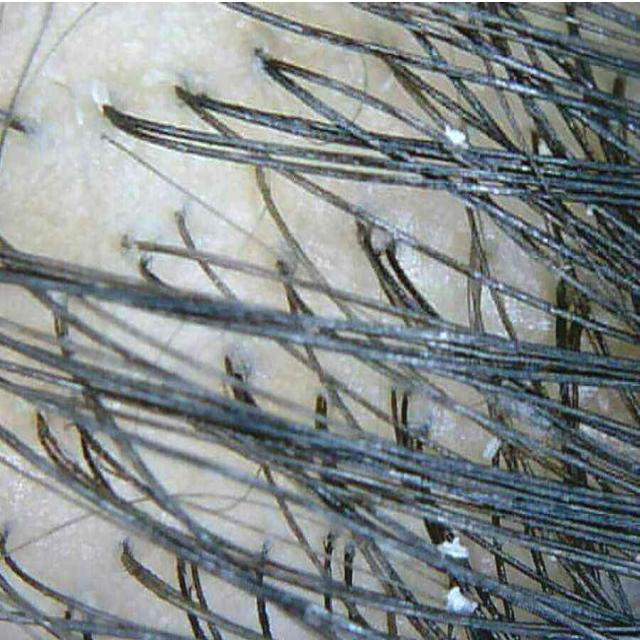d: (446, 586, 483, 618), (433, 534, 469, 558), (91, 80, 111, 109), (445, 125, 469, 148), (482, 437, 501, 460)
